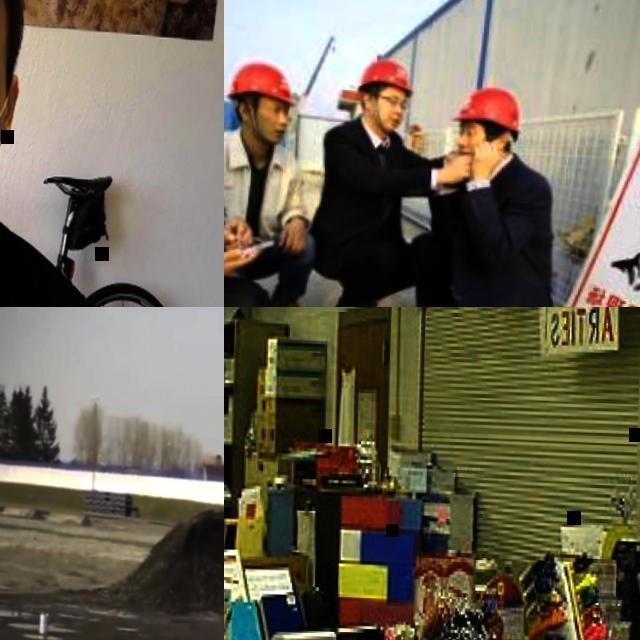helmet: (224, 59, 302, 110), (451, 86, 526, 134), (354, 56, 418, 98)
